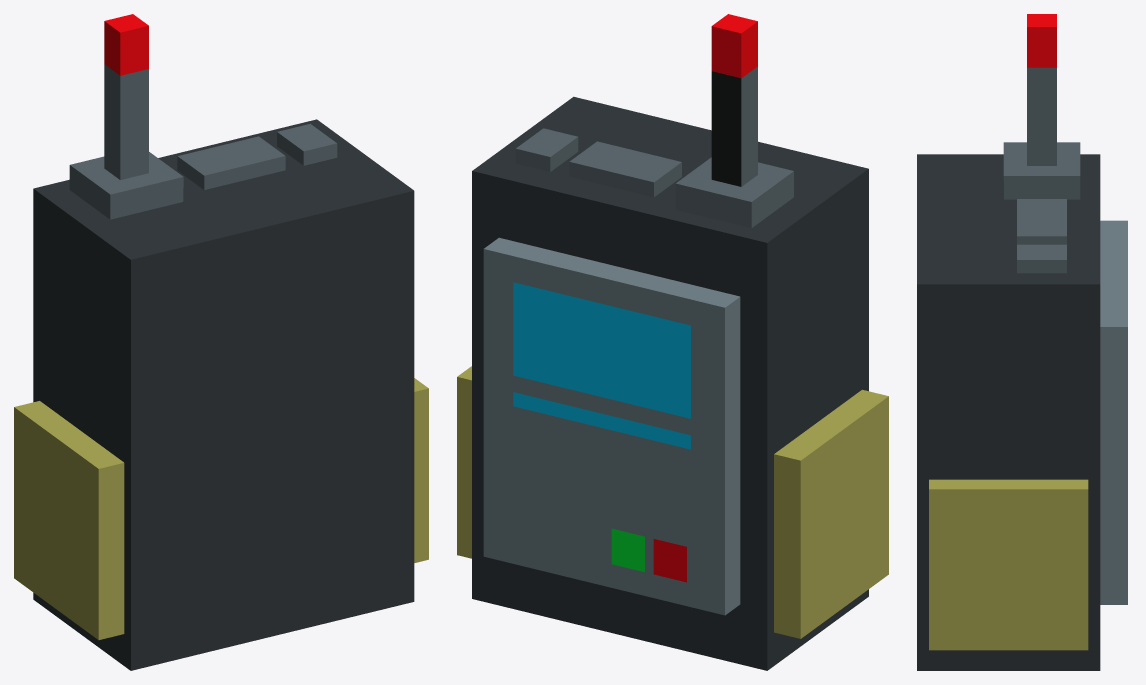
Rendered from Power Bag 01.FBX.
The picture shows the model from 3 angles, left to right: view 1: azimuth 30°, elevation 25°; view 2: azimuth 150°, elevation 25°; view 3: azimuth 270°, elevation 25°; orthographic projection. The views are drawn at different scales.
Visible parts, largest first — view 1: Power Bag 01; view 2: Power Bag 01; view 3: Power Bag 01.
Part boxes in pixels (x1,y1,x2,y2): Power Bag 01: (14, 14, 428, 670); Power Bag 01: (457, 14, 888, 670); Power Bag 01: (917, 14, 1127, 670).
Bounding box in the file's own units: 27.69 × 46.78 × 16.6.
